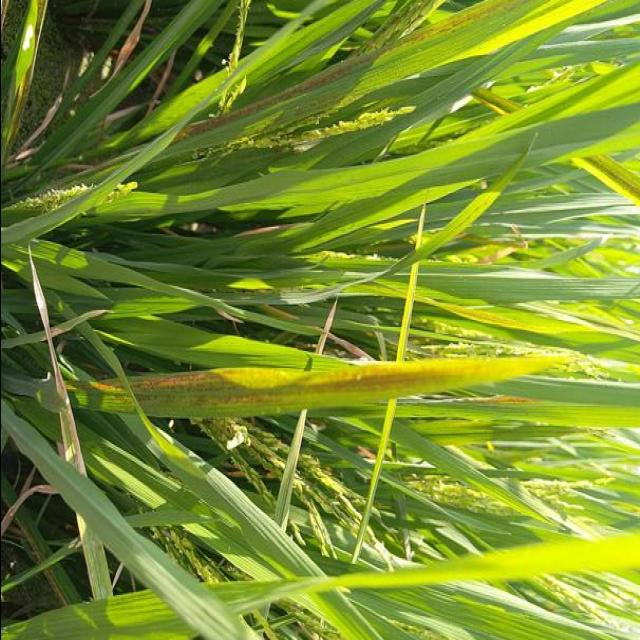Leaf Streak: (162, 0, 526, 154), (95, 358, 566, 419)
